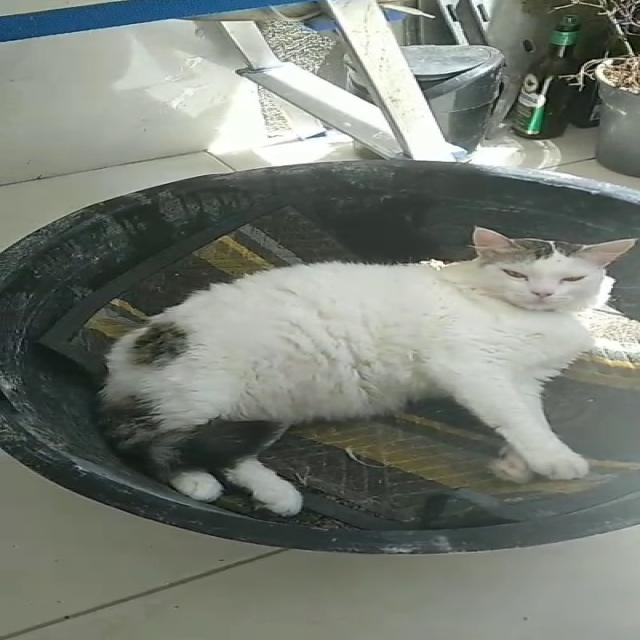Simba: (74, 210, 638, 502)
